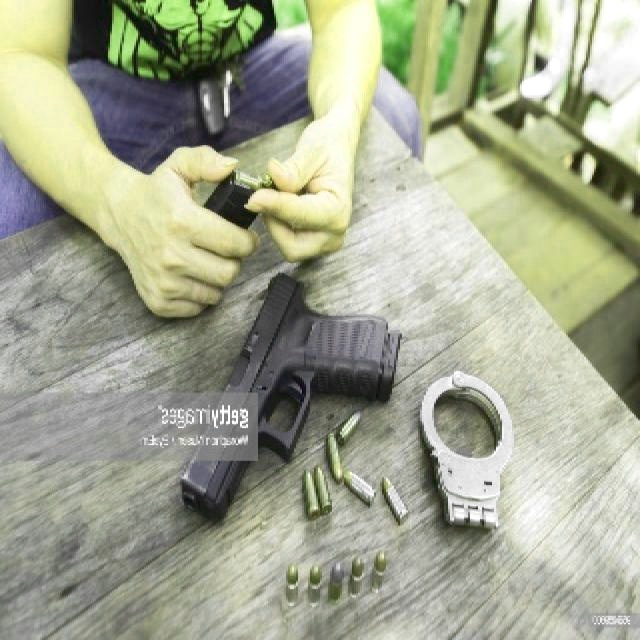gun: (178, 269, 406, 522)
